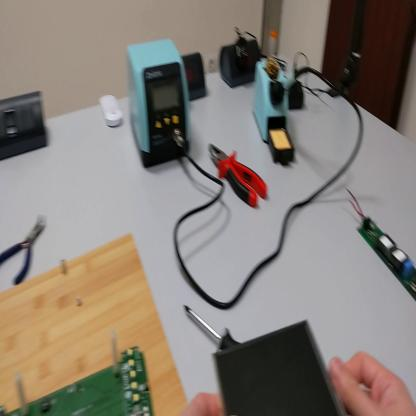hand: (329, 350, 416, 416), (185, 388, 223, 415)
high voltage board: (345, 186, 415, 301)
low voltage board: (3, 334, 154, 416)
pliers: (209, 142, 269, 211), (3, 221, 47, 287)
screwdriver-: (183, 306, 241, 352)
socket: (220, 33, 264, 89), (181, 55, 208, 102)
welder base: (256, 57, 297, 166)
welder probe tip: (273, 63, 316, 104)
welder station: (127, 38, 192, 169)
working area: (2, 235, 189, 413)
